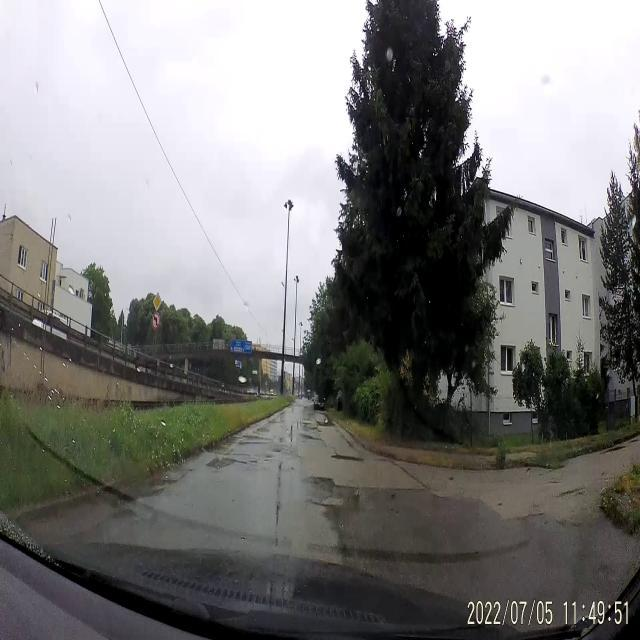Pothole: (329, 451, 365, 466)
